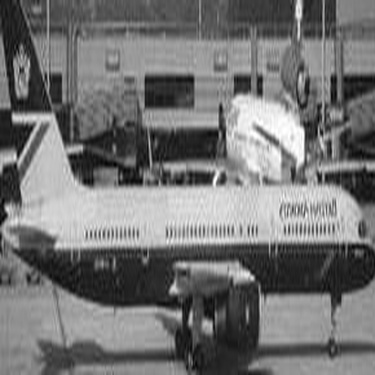airplane: (4, 1, 371, 370), (195, 16, 332, 185)
